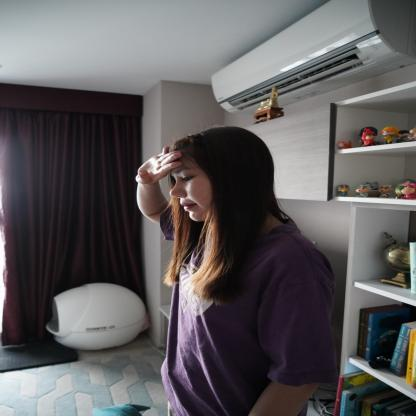Sick: (122, 146, 210, 196)
